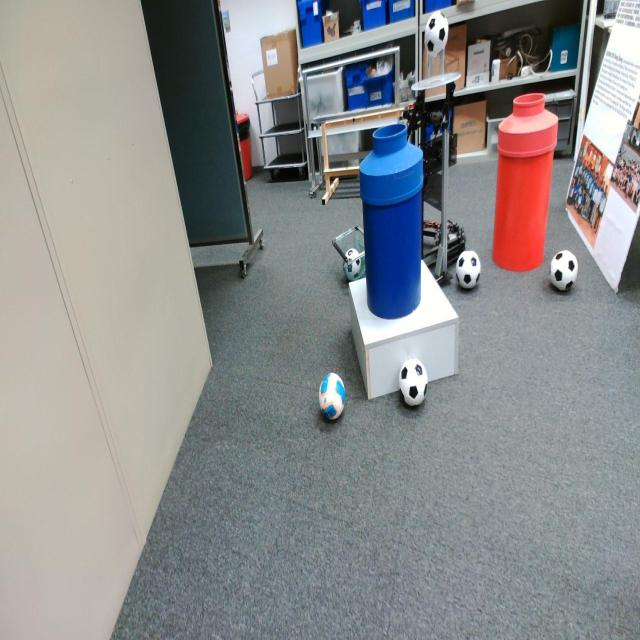Soccer Ball: (400, 359, 428, 404), (318, 376, 344, 418), (550, 252, 578, 290), (425, 13, 447, 53), (456, 252, 480, 288), (344, 242, 362, 275)
